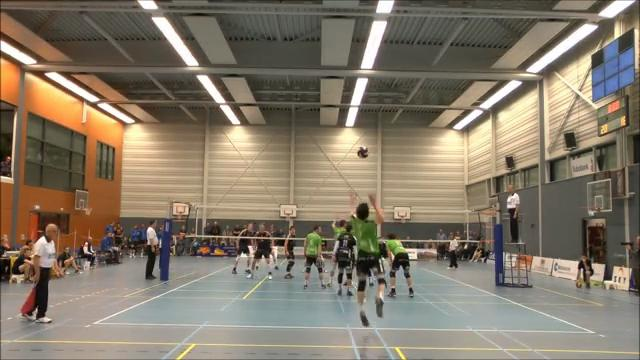Player: (386, 234, 413, 296), (333, 224, 355, 295), (247, 224, 273, 279), (304, 225, 325, 288), (232, 223, 253, 273), (284, 226, 295, 278), (378, 237, 387, 275), (332, 220, 345, 243), (271, 240, 279, 269)
Serve: (346, 190, 387, 327)
ball: (356, 145, 370, 159)
